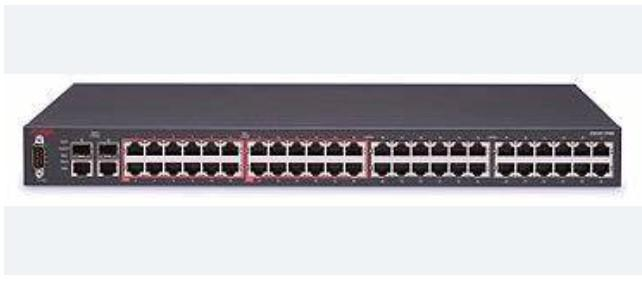NetworkSwitch: (21, 81, 623, 190)
